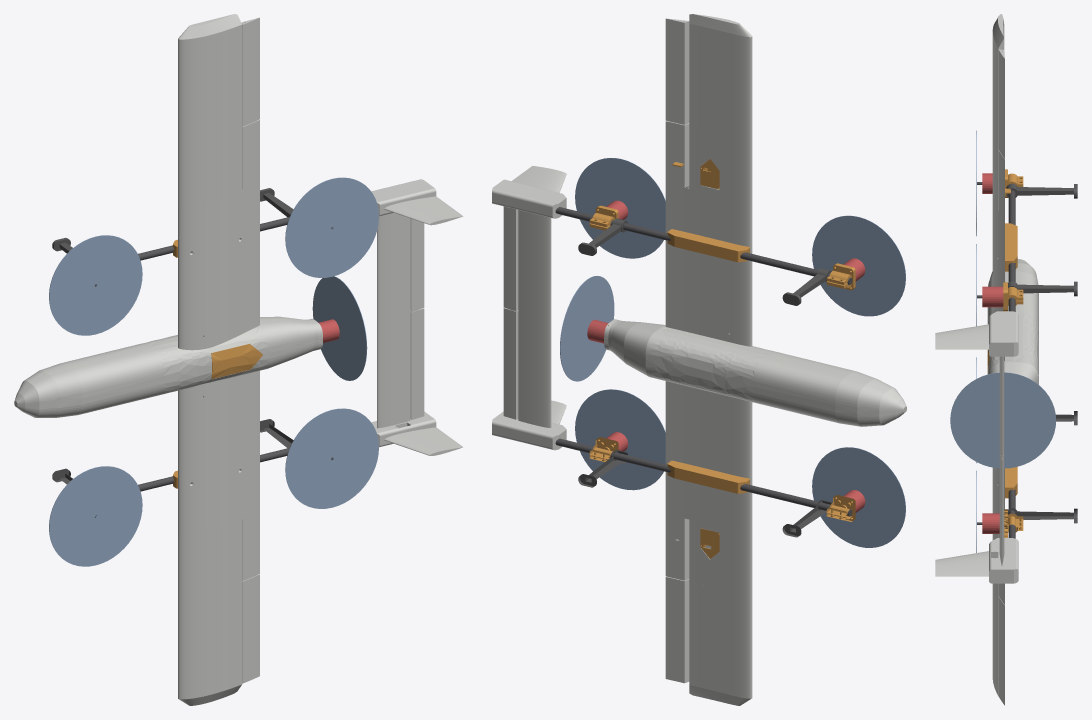
File: assemblage.glb
3 renders of one model, left to right at view 1: azimuth 30°, elevation 25°; view 2: azimuth 150°, elevation 25°; view 3: azimuth 270°, elevation 25°, orthographic. The views are drawn at different scales.
Visible parts, largest first — view 1: PLA_0, PLA_1, PLA_3, PLA_2, helice_58, helice_61, helice_50, helice_53, PLA_5, PLA_4, PLA_15, helice_66 (+15 smaller); view 2: PLA_0, PLA_2, PLA_3, PLA_1, PLA_5, PLA_4, helice_58, helice_50, PLA_15, PLA_16, helice_61, helice_53 (+18 smaller); view 3: helice_66, PLA Aero_33, PLA Aero_34, PLA_16, PLA_15, PLA_2, PLA_8, PLA_4, PLA_9, PLA_5, TPU 95A_29, PLA_17 (+18 smaller).
Boxes of the visible parts, left/top/right/bottom form: PLA_0: left=178, top=222, right=259, bottom=350; PLA_1: left=178, top=370, right=259, bottom=494; PLA_3: left=178, top=471, right=259, bottom=596; PLA_2: left=178, top=127, right=259, bottom=244; helice_58: left=49, top=235, right=142, bottom=335; helice_61: left=285, top=177, right=378, bottom=277; helice_50: left=49, top=466, right=142, bottom=566; helice_53: left=285, top=408, right=378, bottom=508; PLA_5: left=178, top=582, right=242, bottom=699; PLA_4: left=178, top=25, right=242, bottom=142; PLA_15: left=35, top=343, right=163, bottom=417; helice_66: left=312, top=276, right=367, bottom=380; PLA_0: left=665, top=224, right=752, bottom=346; PLA_2: left=665, top=126, right=752, bottom=242; PLA_3: left=665, top=474, right=752, bottom=595; PLA_1: left=665, top=381, right=752, bottom=492; PLA_5: left=689, top=582, right=752, bottom=698; PLA_4: left=689, top=23, right=752, bottom=139; helice_58: left=812, top=215, right=905, bottom=316; helice_50: left=812, top=447, right=905, bottom=547; PLA_15: left=753, top=351, right=881, bottom=426; PLA_16: left=648, top=327, right=773, bottom=403; helice_61: left=575, top=158, right=665, bottom=258; helice_53: left=575, top=389, right=665, bottom=490; helice_66: left=950, top=372, right=1056, bottom=468; PLA Aero_33: left=935, top=311, right=1018, bottom=356; PLA Aero_34: left=935, top=538, right=1018, bottom=583; PLA_16: left=987, top=310, right=1038, bottom=377; PLA_15: left=987, top=262, right=1038, bottom=326; PLA_2: left=992, top=133, right=1004, bottom=259; PLA_8: left=998, top=49, right=1004, bottom=158; PLA_4: left=992, top=32, right=1004, bottom=148; PLA_9: left=998, top=596, right=1004, bottom=705; PLA_5: left=992, top=583, right=998, bottom=695; TPU 95A_29: left=1006, top=183, right=1077, bottom=198; PLA_17: left=988, top=361, right=1038, bottom=384.
Bounding box in the file's own units: 780 × 1236 × 239.
